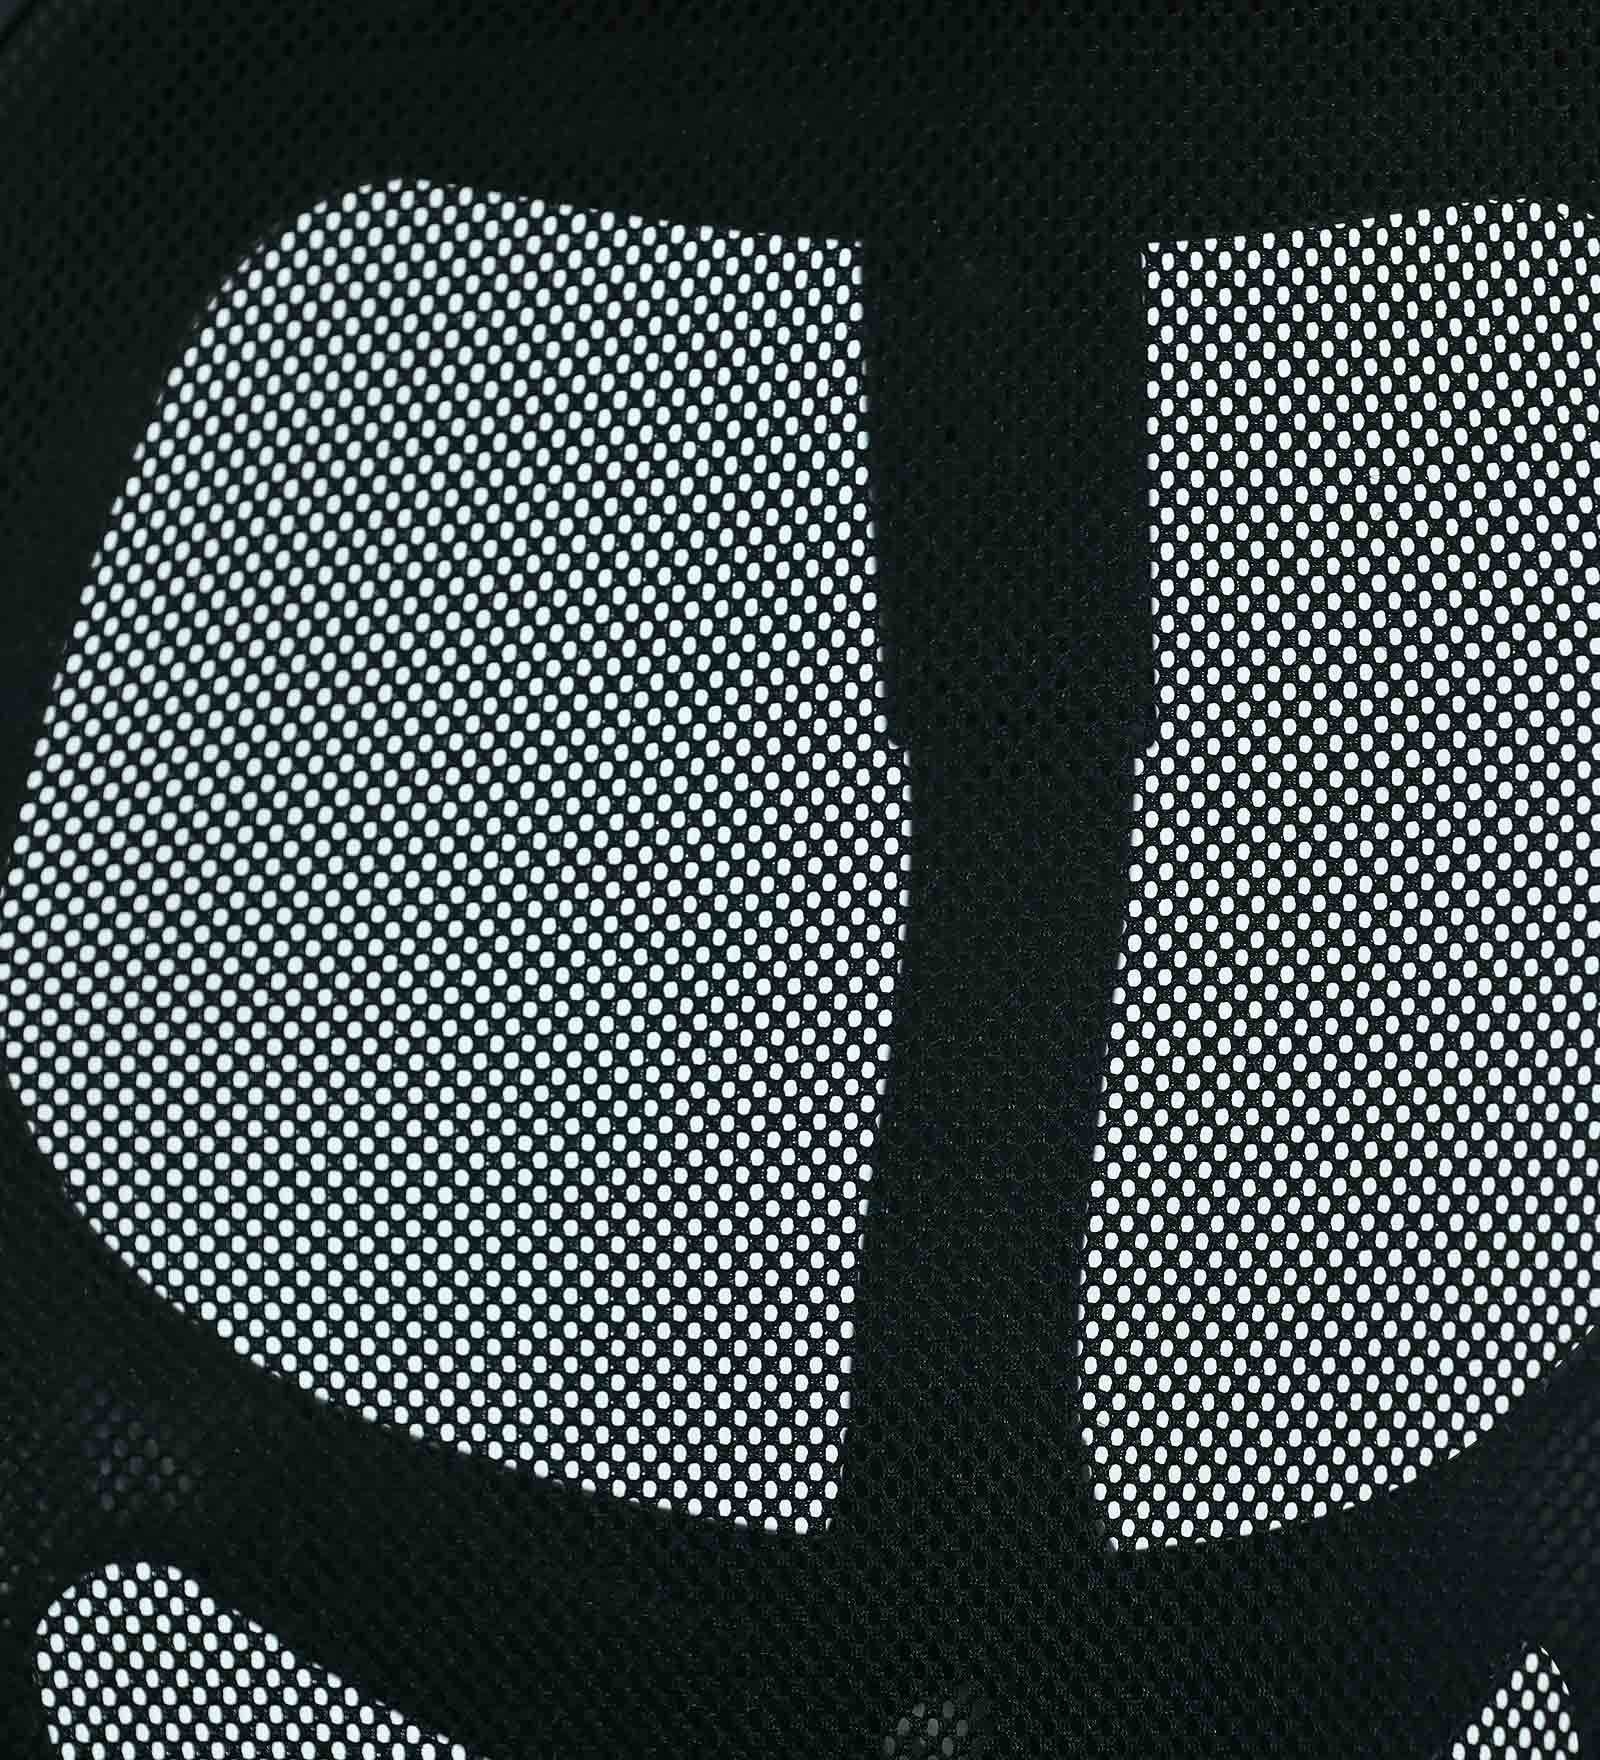Swivel High Back Ergonomic Chair with headrest In Black Colour By Furniease: (135, 181, 1592, 1760)
